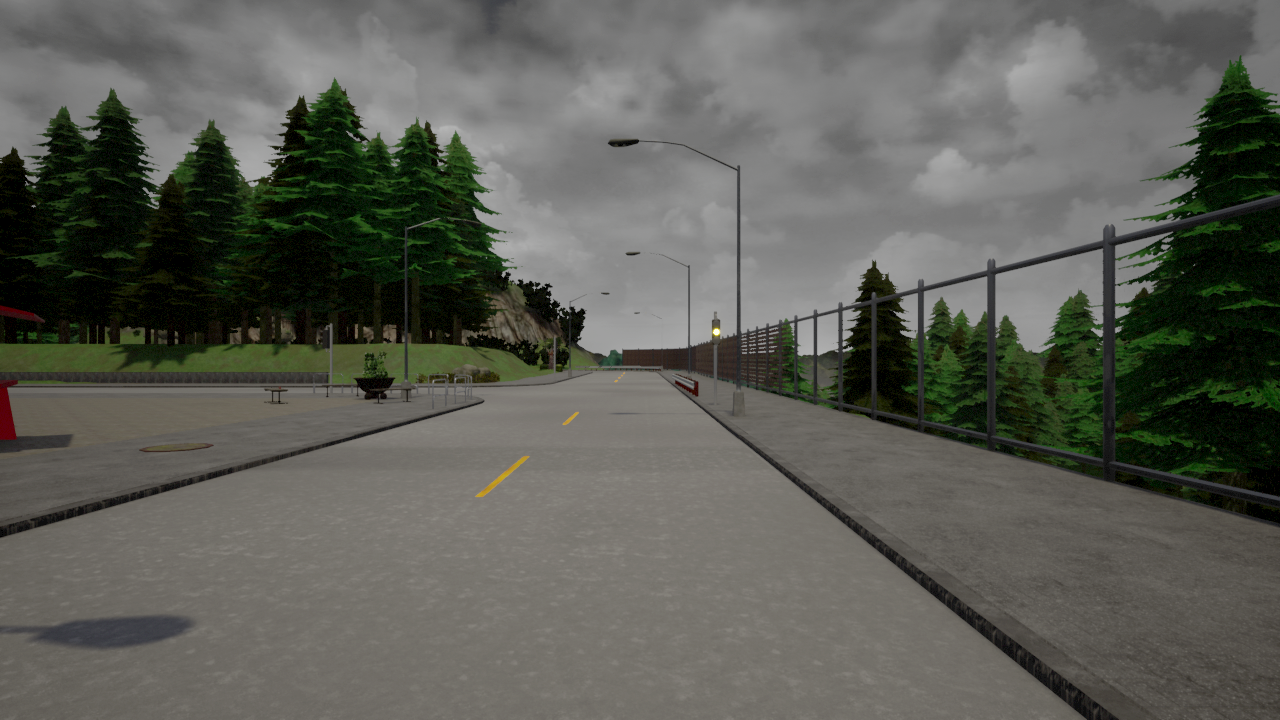yellow: (710, 318, 721, 345)
